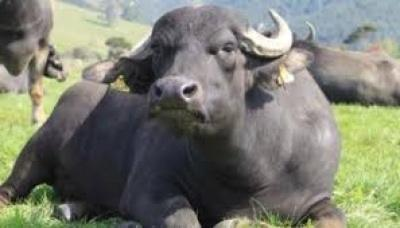buffalo: (0, 5, 400, 228)
